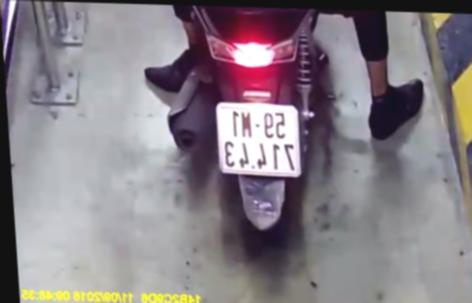License_Plate: (208, 101, 308, 180)
